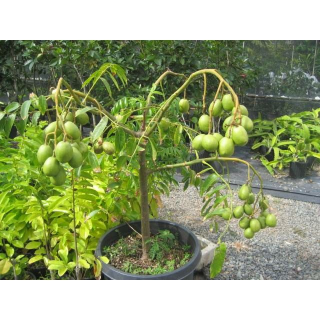coc: (56, 140, 71, 163), (42, 156, 59, 176), (202, 134, 218, 151)
